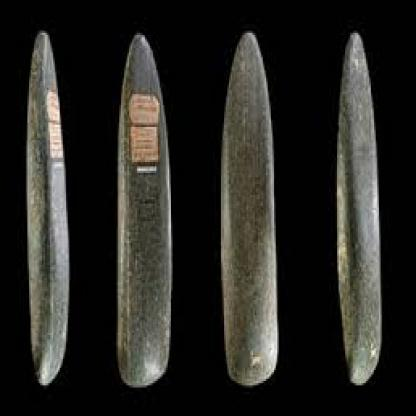Igneous_Diorite: (116, 22, 174, 390), (225, 15, 280, 390), (337, 26, 382, 386), (32, 33, 71, 381)
